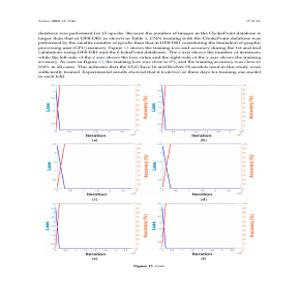diagram: (35, 81, 266, 266)
text: (36, 29, 263, 80)
